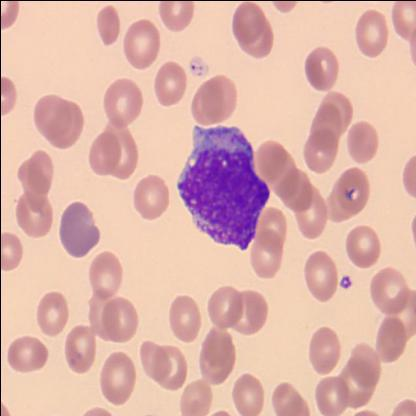Promyelocyte: (176, 126, 268, 249)
